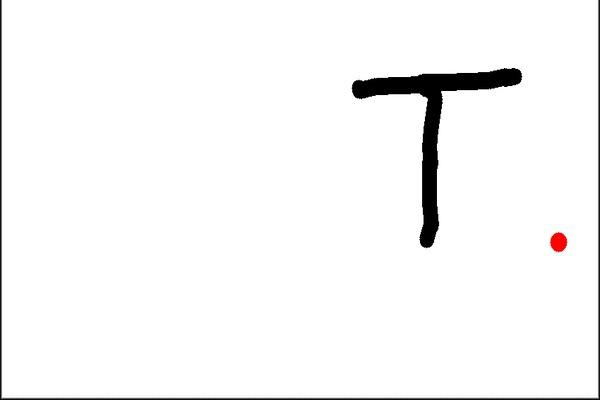T: (345, 59, 523, 254)
